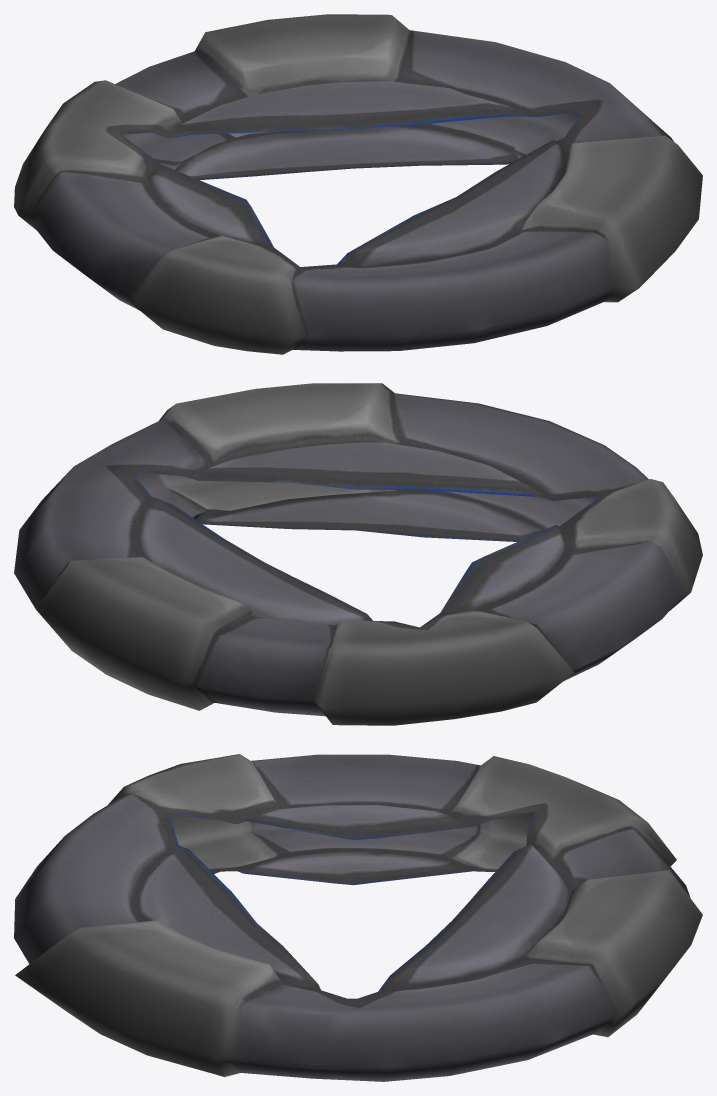
The model's file is lane-switch.glb.
3 renders of one model, top to bottom at view 1: azimuth 30°, elevation 25°; view 2: azimuth 150°, elevation 25°; view 3: azimuth 270°, elevation 25°, orthographic.
Visible parts, largest first — view 1: LaneSwitchBase; view 2: LaneSwitchBase; view 3: LaneSwitchBase.
Boxes of the visible parts, x1=… form: LaneSwitchBase: x1=14, y1=14, x2=702, y2=354; LaneSwitchBase: x1=14, y1=383, x2=702, y2=725; LaneSwitchBase: x1=14, y1=754, x2=702, y2=1081.
Size of the model in its own units: 3.33 by 0.5072 by 3.36.
1 material, 1 textured.
